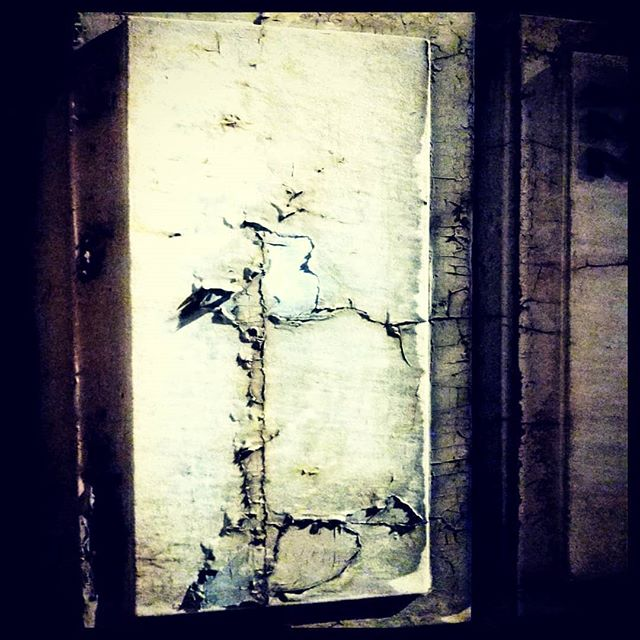window: (61, 1, 477, 639)
